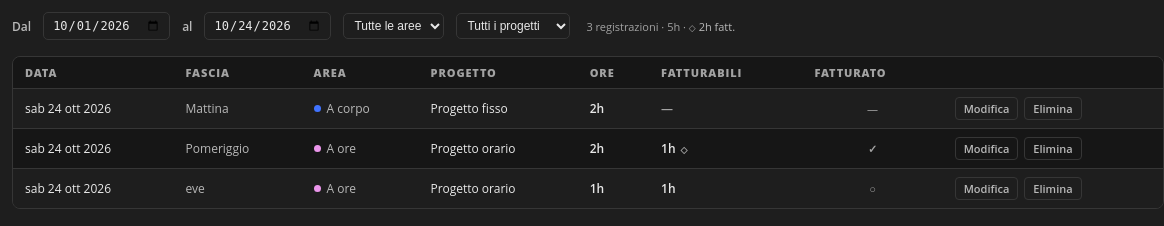
EntriesScreen › il filtro per area restringe elenco e conteggio
Expected: the text "3 registrazioni · 5h · ◇ 2h fatt." is shown, [586, 18, 735, 34]
Select "A ore" in the 1st dropdown. click: [394, 26]
box: [343, 13, 444, 39]
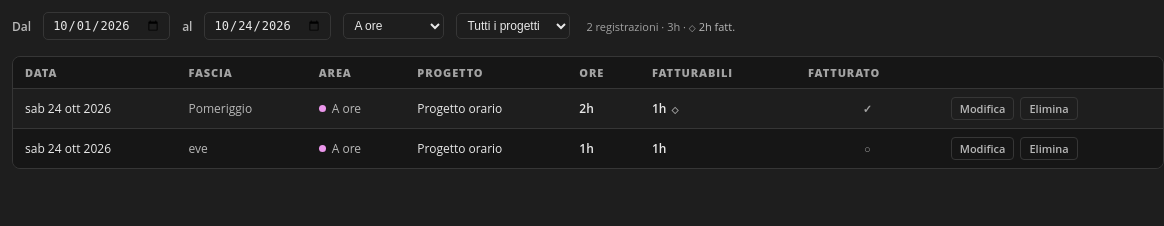
Expected: the text "2 registrazioni · 3h · ◇ 2h fatt." is shown, [586, 18, 735, 34]
Expected: the text "Progetto fisso" is gone
